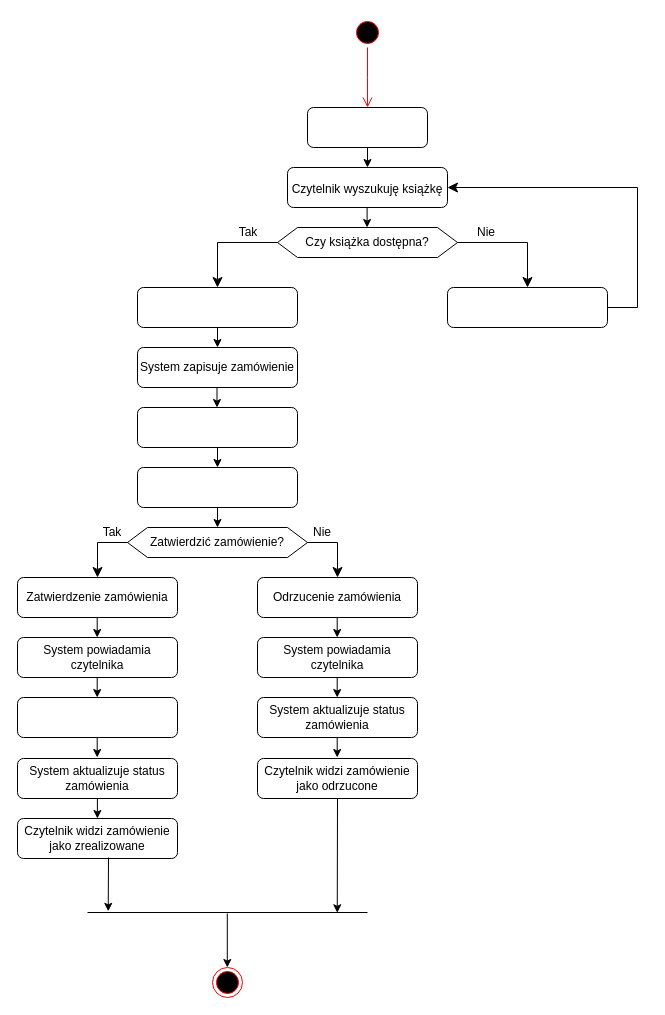
Some shapes in this 665 by 1015 pixel diagram are drawn without their labels. The shapes that lost their labels are listed below. From the top down, each one's centre as x and y in pixels, then its label:
(367,127): Czytelnik loguje się
(217,307): Czytelnik klika „Zamów książke"
(527,307): System wyświetla komunikat „Książka niedostępna"
(217,427): Bibliotekarz loguje się
(217,487): Bibliotekarz przegląda nowe zamówienie
(97,717): Wydanie książki
